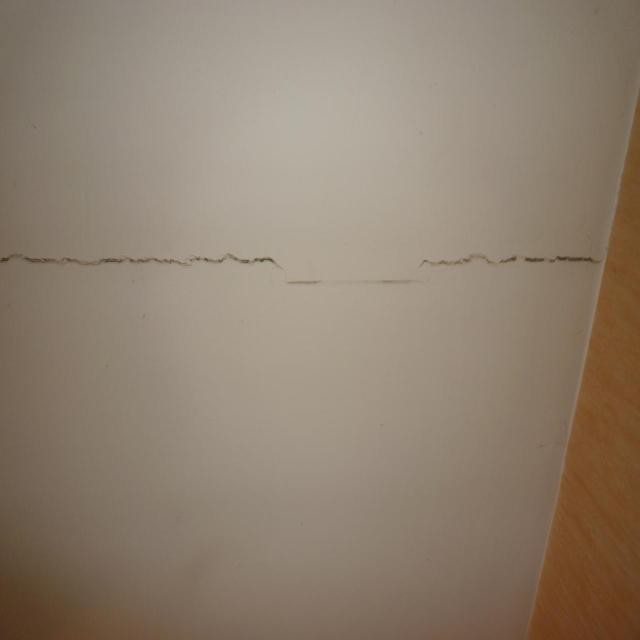crack: (0, 250, 283, 271), (415, 252, 605, 270), (283, 273, 432, 290)
